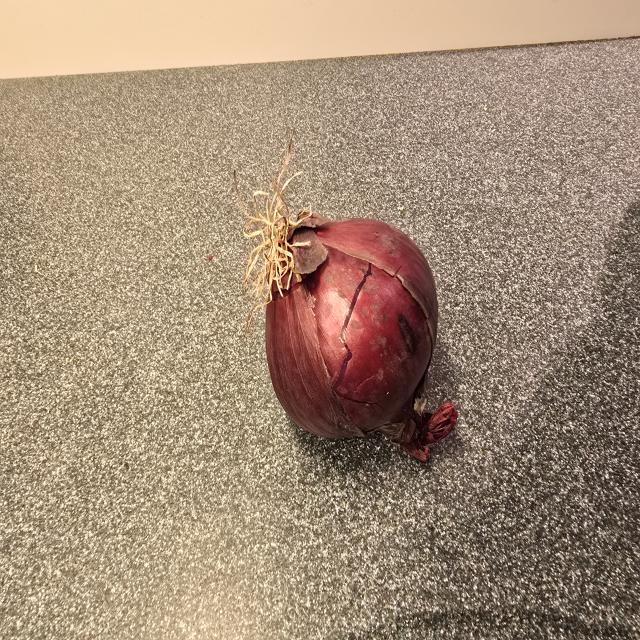Onion: (254, 194, 457, 454)
